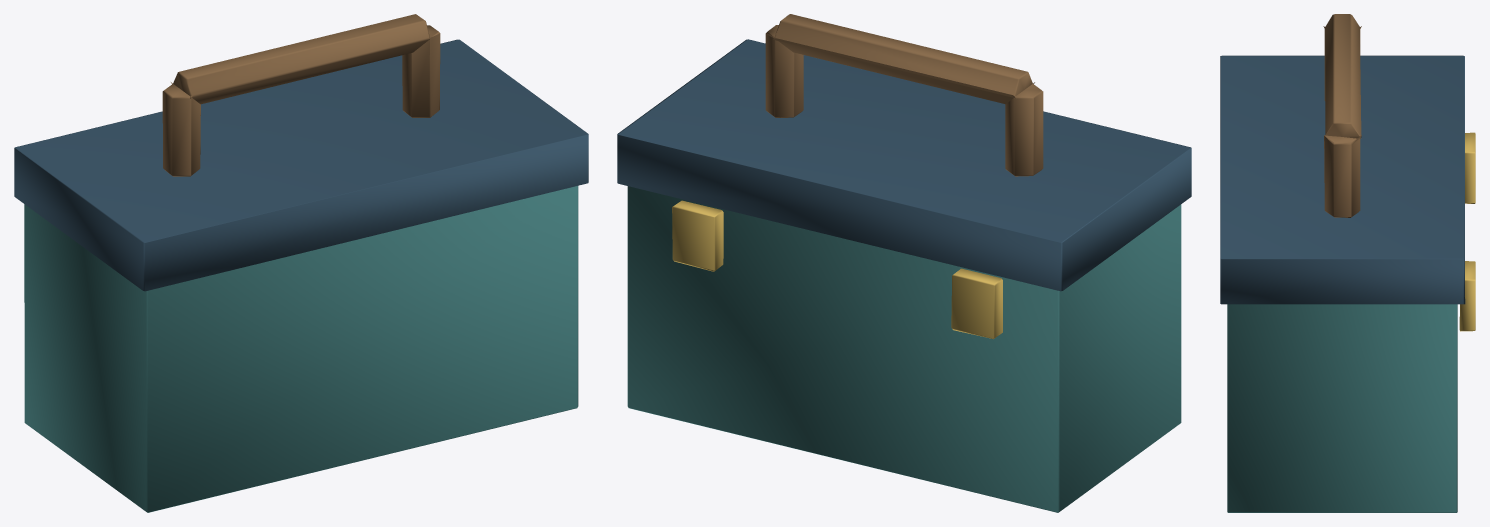
The model's file is toolbox_low.glb.
3 views of the same model, side by side, from view 1: azimuth 30°, elevation 25°; view 2: azimuth 150°, elevation 25°; view 3: azimuth 270°, elevation 25° (orthographic). The views are drawn at different scales.
Size of the model in its own units: 0.67 by 0.5317 by 0.355.
